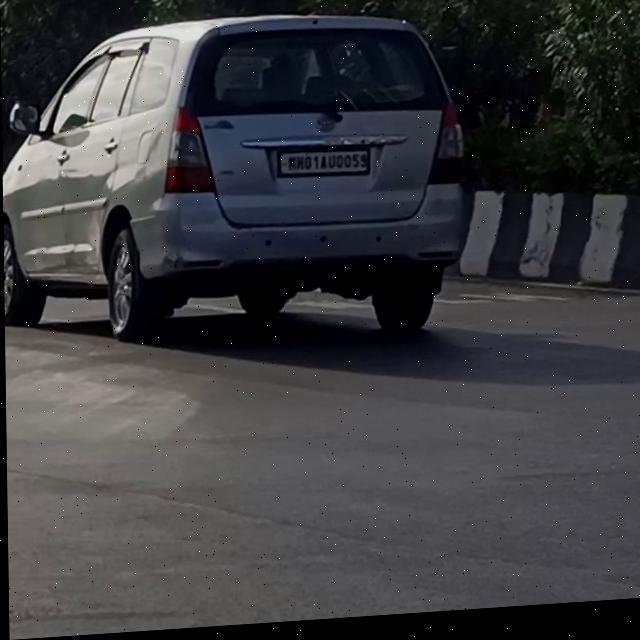plate: (274, 148, 370, 184)
